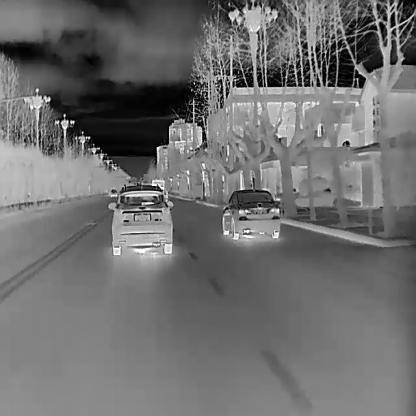car: (110, 185, 173, 255), (221, 188, 280, 239), (150, 178, 165, 189)
